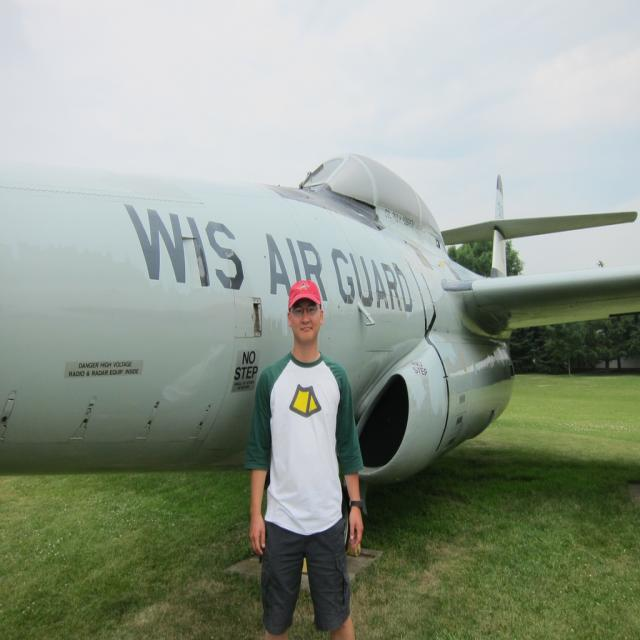no_helmet: (264, 292, 342, 348)
